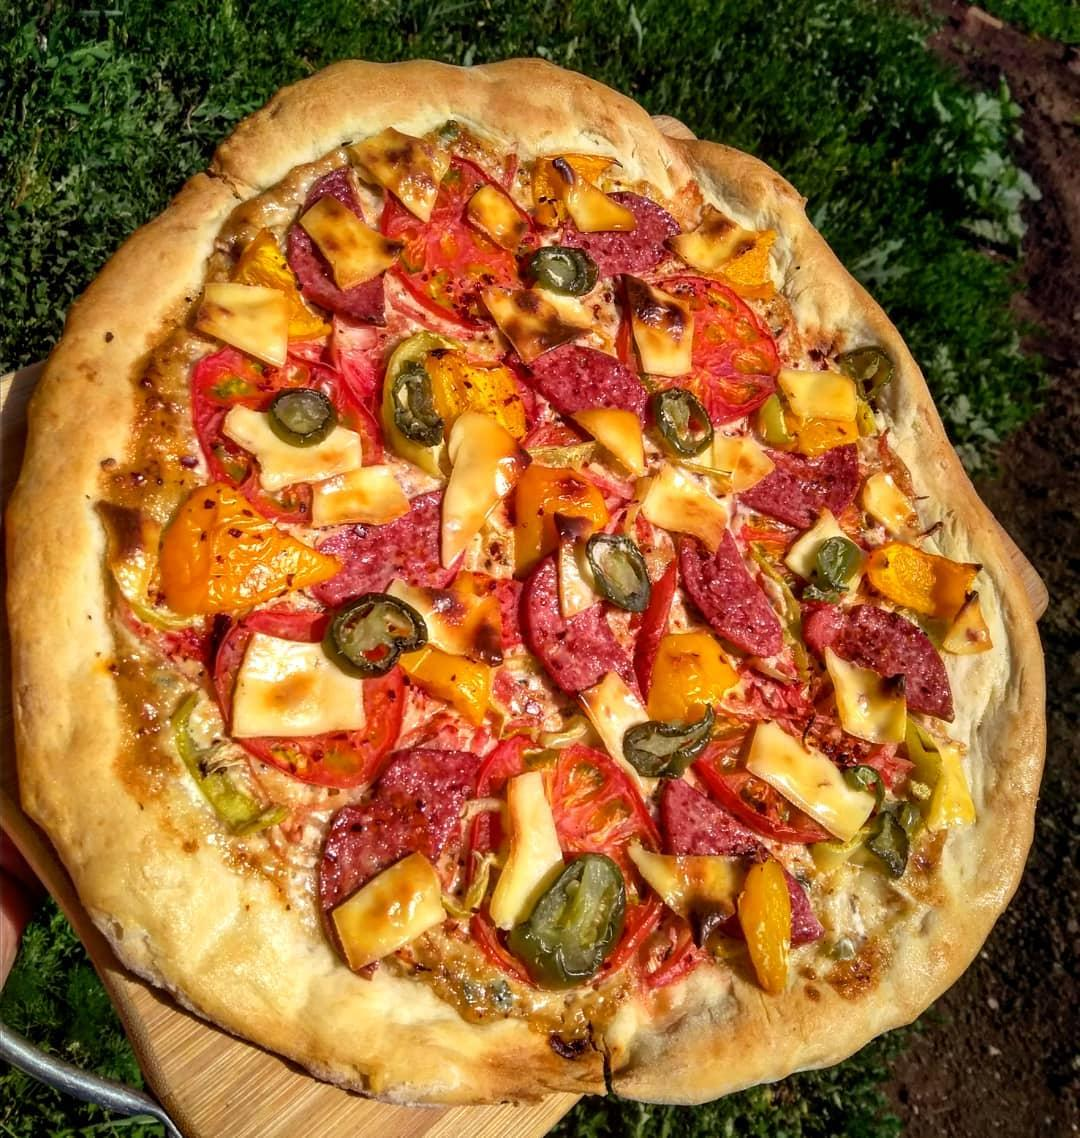Ham: (305, 743, 465, 970), (647, 775, 828, 936), (679, 531, 794, 671), (813, 609, 958, 716), (311, 505, 452, 606), (523, 555, 625, 691), (301, 169, 385, 327), (731, 441, 872, 526), (555, 179, 678, 268), (531, 347, 649, 412)
Peppers: (162, 484, 339, 607), (516, 850, 623, 987), (242, 231, 331, 335), (517, 465, 604, 562), (872, 542, 982, 613), (530, 152, 631, 229), (334, 592, 425, 673), (739, 862, 794, 990), (654, 632, 733, 717), (402, 648, 487, 722), (623, 718, 712, 775), (588, 533, 650, 614), (391, 363, 445, 447), (655, 388, 715, 453), (530, 244, 598, 296), (835, 346, 894, 400), (274, 389, 331, 440), (816, 537, 859, 603), (872, 813, 911, 876)
Pizza: (0, 63, 1048, 1103)
Tomatoes: (472, 752, 667, 979), (195, 350, 380, 523), (224, 612, 401, 790), (699, 714, 903, 840), (380, 158, 513, 323), (632, 283, 777, 416)
